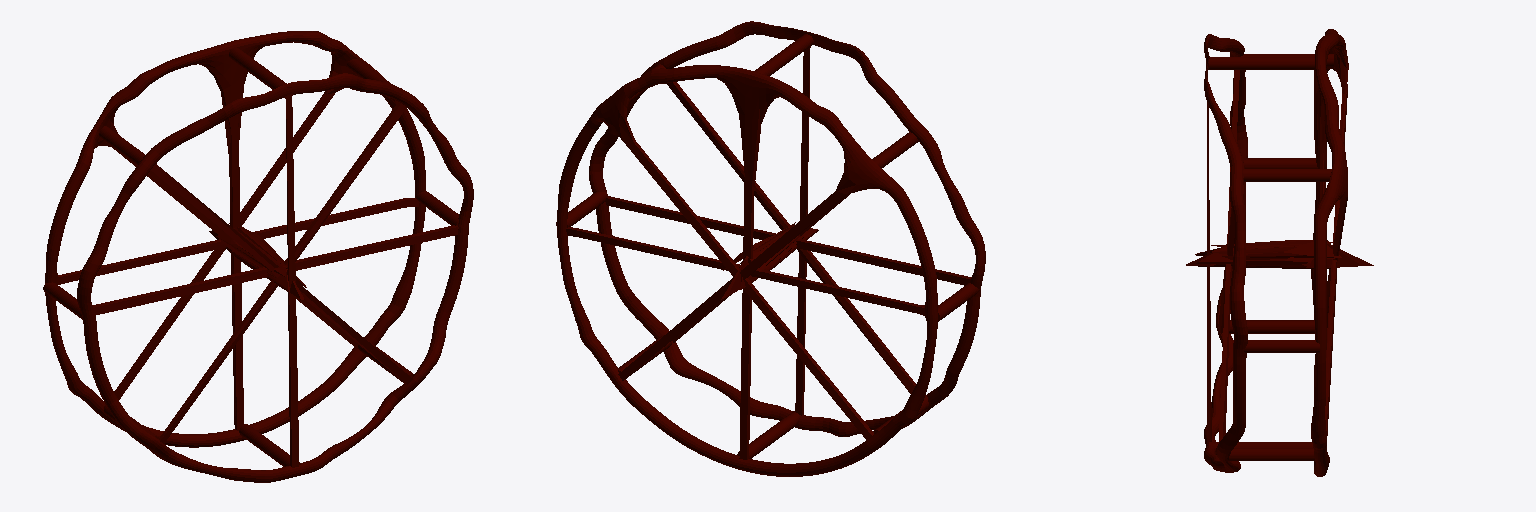
The model's file is rodax.obj.
3 views of the same model, side by side, from view 1: azimuth 30°, elevation 25°; view 2: azimuth 150°, elevation 25°; view 3: azimuth 270°, elevation 25° (orthographic).
Visible parts, largest first — view 1: Cylinder; view 2: Cylinder; view 3: Cylinder.
Part boxes in pixels (bbox=[...]): Cylinder: bbox=[43, 31, 473, 482]; Cylinder: bbox=[556, 21, 985, 476]; Cylinder: bbox=[1186, 29, 1373, 476].
Size of the model in its own units: 16.96 by 16.48 by 7.